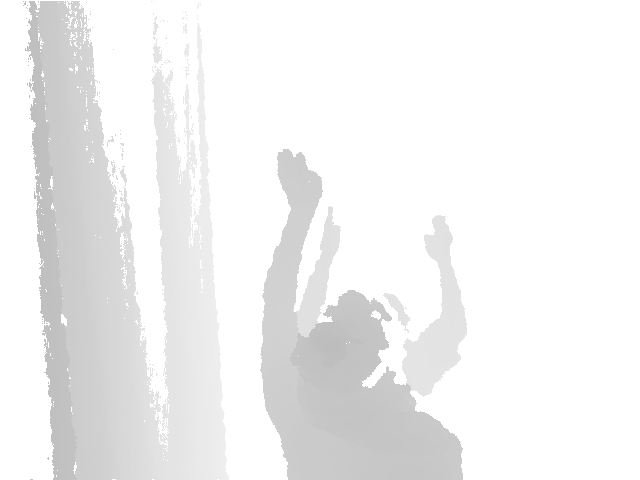hand: (274, 148, 324, 216), (424, 215, 454, 259), (320, 206, 342, 258)
head: (301, 290, 389, 378)
person: (258, 148, 465, 479), (294, 206, 468, 398)
